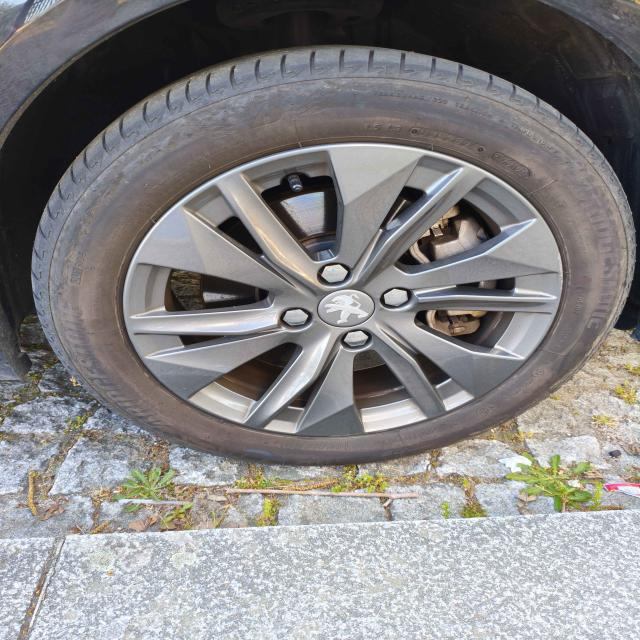jante: (118, 143, 568, 438)
parafuso: (382, 287, 409, 310), (282, 308, 310, 329), (320, 264, 349, 284), (343, 330, 370, 349)
roda: (31, 43, 640, 462)
